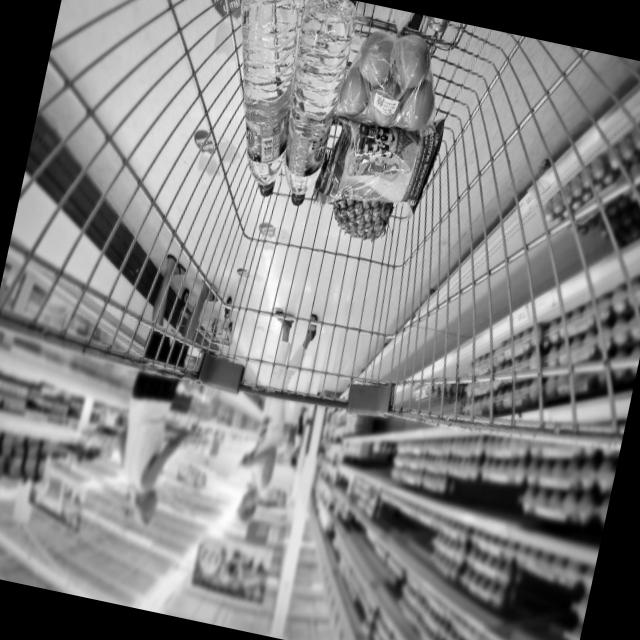apple: (334, 26, 453, 142)
pineapple: (303, 150, 401, 250)
